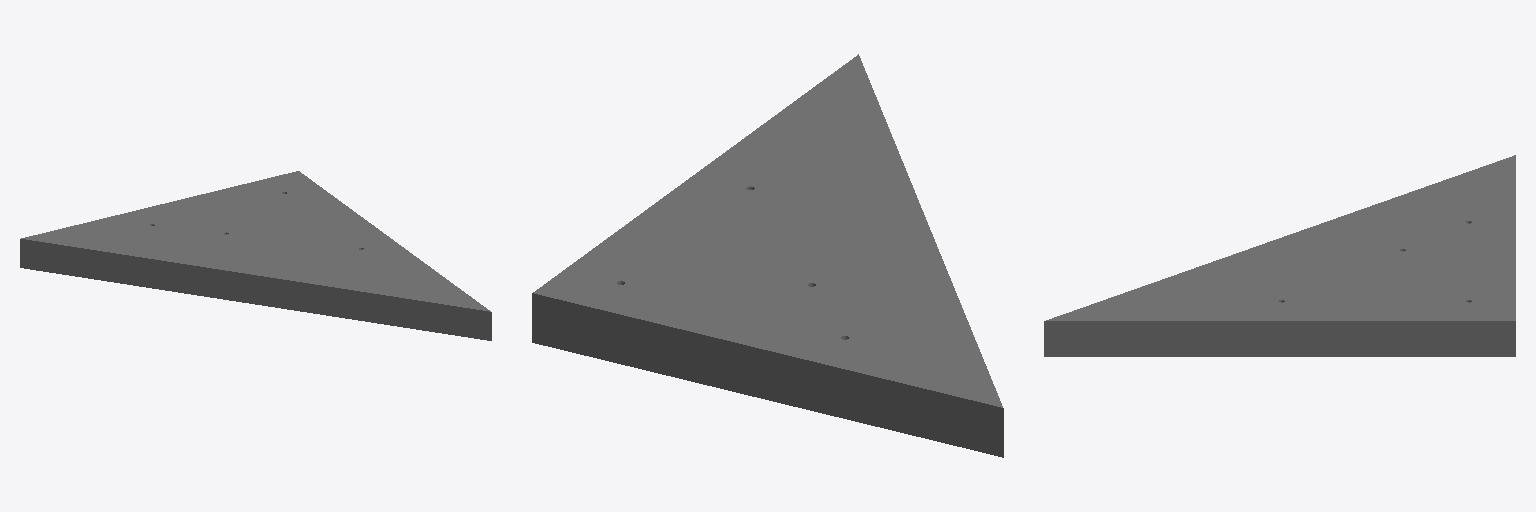
The robot description file, URDF, robot "push_object":
<?xml version="1.0" ?>
<robot name="push_object">
  <link name="link_x">
    <inertial>
      <mass value="0"/>
      <inertia ixx="1.0" ixy="0.0" ixz="0.0" iyy="1.0" iyz="0.0" izz="1.0"/>
    </inertial>
  </link>

  <link name="link_y">
    <inertial>
      <mass value="0"/>
      <inertia ixx="1.0" ixy="0.0" ixz="0.0" iyy="1.0" iyz="0.0" izz="1.0"/>
    </inertial>
  </link>
  
  <link name="link_z">
    <inertial>
      <mass value="0"/>
      <inertia ixx="1.0" ixy="0.0" ixz="0.0" iyy="1.0" iyz="0.0" izz="1.0"/>
    </inertial>
  </link>
  
  <link name="link_yaw">
    <inertial>
      <mass value="0"/>
      <inertia ixx="1.0" ixy="0.0" ixz="0.0" iyy="1.0" iyz="0.0" izz="1.0"/>
    </inertial>
  </link>

  <link name="link_object">
    <contact>
      <rolling_friction value="0.03"/>
      <spinning_friction value="0.03"/>
    </contact>

    <inertial>
      <origin rpy="0 0 0" xyz="0 0 0"/>
       <mass value="0.006350"/>
       <inertia ixx="1" ixy="0" ixz="0" iyy="1" iyz="0" izz="0.983000"/>
    </inertial>
    <visual>
      <origin rpy="0 0 0" xyz="0 0 0.002110"/>
      <geometry>
        <mesh filename="tri2.obj" scale="1.0 1.0 1.0"/>      
      </geometry>
      <material name="gray">
        <color rgba="0.5 0.5 0.5 1"/>
        <specular rgb="1 1 1"/>
      </material>
    </visual>
    
    <collision>
      <origin rpy="0 0 0" xyz="-0.0700 0.0400 -0.0063"/>
      <geometry>
        <sphere radius="0.0065"/>
      </geometry>
    </collision>
        
    <collision>
      <origin rpy="0 0 0" xyz="-0.0600 0.0200 -0.0063"/>
      <geometry>
        <sphere radius="0.0065"/>
      </geometry>
    </collision>
        
    <collision>
      <origin rpy="0 0 0" xyz="-0.0600 0.0300 -0.0063"/>
      <geometry>
        <sphere radius="0.0065"/>
      </geometry>
    </collision>
        
    <collision>
      <origin rpy="0 0 0" xyz="-0.0600 0.0400 -0.0063"/>
      <geometry>
        <sphere radius="0.0065"/>
      </geometry>
    </collision>
        
    <collision>
      <origin rpy="0 0 0" xyz="-0.0500 0.0100 -0.0063"/>
      <geometry>
        <sphere radius="0.0065"/>
      </geometry>
    </collision>
        
    <collision>
      <origin rpy="0 0 0" xyz="-0.0500 0.0200 -0.0063"/>
      <geometry>
        <sphere radius="0.0065"/>
      </geometry>
    </collision>
        
    <collision>
      <origin rpy="0 0 0" xyz="-0.0500 0.0300 -0.0063"/>
      <geometry>
        <sphere radius="0.0065"/>
      </geometry>
    </collision>
        
    <collision>
      <origin rpy="0 0 0" xyz="-0.0500 0.0400 -0.0063"/>
      <geometry>
        <sphere radius="0.0065"/>
      </geometry>
    </collision>
        
    <collision>
      <origin rpy="0 0 0" xyz="-0.0400 -0.0000 -0.0063"/>
      <geometry>
        <sphere radius="0.0065"/>
      </geometry>
    </collision>
        
    <collision>
      <origin rpy="0 0 0" xyz="-0.0400 0.0100 -0.0063"/>
      <geometry>
        <sphere radius="0.0065"/>
      </geometry>
    </collision>
        
    <collision>
      <origin rpy="0 0 0" xyz="-0.0400 0.0200 -0.0063"/>
      <geometry>
        <sphere radius="0.0065"/>
      </geometry>
    </collision>
        
    <collision>
      <origin rpy="0 0 0" xyz="-0.0400 0.0300 -0.0063"/>
      <geometry>
        <sphere radius="0.0065"/>
      </geometry>
    </collision>
        
    <collision>
      <origin rpy="0 0 0" xyz="-0.0400 0.0400 -0.0063"/>
      <geometry>
        <sphere radius="0.0065"/>
      </geometry>
    </collision>
        
    <collision>
      <origin rpy="0 0 0" xyz="-0.0300 -0.0100 -0.0063"/>
      <geometry>
        <sphere radius="0.0065"/>
      </geometry>
    </collision>
        
    <collision>
      <origin rpy="0 0 0" xyz="-0.0300 -0.0000 -0.0063"/>
      <geometry>
        <sphere radius="0.0065"/>
      </geometry>
    </collision>
        
    <collision>
      <origin rpy="0 0 0" xyz="-0.0300 0.0100 -0.0063"/>
      <geometry>
        <sphere radius="0.0065"/>
      </geometry>
    </collision>
        
    <collision>
      <origin rpy="0 0 0" xyz="-0.0300 0.0200 -0.0063"/>
      <geometry>
        <sphere radius="0.0065"/>
      </geometry>
    </collision>
        
    <collision>
      <origin rpy="0 0 0" xyz="-0.0300 0.0300 -0.0063"/>
      <geometry>
        <sphere radius="0.0065"/>
      </geometry>
    </collision>
        
    <collision>
      <origin rpy="0 0 0" xyz="-0.0300 0.0400 -0.0063"/>
      <geometry>
        <sphere radius="0.0065"/>
      </geometry>
    </collision>
        
    <collision>
      <origin rpy="0 0 0" xyz="-0.0200 -0.0200 -0.0063"/>
      <geometry>
        <sphere radius="0.0065"/>
      </geometry>
    </collision>
        
    <collision>
      <origin rpy="0 0 0" xyz="-0.0200 -0.0100 -0.0063"/>
      <geometry>
        <sphere radius="0.0065"/>
      </geometry>
    </collision>
        
    <collision>
      <origin rpy="0 0 0" xyz="-0.0200 -0.0000 -0.0063"/>
      <geometry>
        <sphere radius="0.0065"/>
      </geometry>
    </collision>
        
    <collision>
      <origin rpy="0 0 0" xyz="-0.0200 0.0100 -0.0063"/>
      <geometry>
        <sphere radius="0.0065"/>
      </geometry>
    </collision>
        
    <collision>
      <origin rpy="0 0 0" xyz="-0.0200 0.0200 -0.0063"/>
      <geometry>
        <sphere radius="0.0065"/>
      </geometry>
    </collision>
        
    <collision>
      <origin rpy="0 0 0" xyz="-0.0200 0.0300 -0.0063"/>
      <geometry>
        <sphere radius="0.0065"/>
      </geometry>
    </collision>
        
    <collision>
      <origin rpy="0 0 0" xyz="-0.0200 0.0400 -0.0063"/>
      <geometry>
        <sphere radius="0.0065"/>
      </geometry>
    </collision>
        
    <collision>
      <origin rpy="0 0 0" xyz="-0.0100 -0.0400 -0.0063"/>
      <geometry>
        <sphere radius="0.0065"/>
      </geometry>
    </collision>
        
    <collision>
      <origin rpy="0 0 0" xyz="-0.0100 -0.0300 -0.0063"/>
      <geometry>
        <sphere radius="0.0065"/>
      </geometry>
    </collision>
        
    <collision>
      <origin rpy="0 0 0" xyz="-0.0100 -0.0200 -0.0063"/>
      <geometry>
        <sphere radius="0.0065"/>
      </geometry>
    </collision>
        
    <collision>
      <origin rpy="0 0 0" xyz="-0.0100 -0.0100 -0.0063"/>
      <geometry>
        <sphere radius="0.0065"/>
      </geometry>
    </collision>
        
    <collision>
      <origin rpy="0 0 0" xyz="-0.0100 -0.0000 -0.0063"/>
      <geometry>
        <sphere radius="0.0065"/>
      </geometry>
    </collision>
        
    <collision>
      <origin rpy="0 0 0" xyz="-0.0100 0.0100 -0.0063"/>
      <geometry>
        <sphere radius="0.0065"/>
      </geometry>
    </collision>
        
    <collision>
      <origin rpy="0 0 0" xyz="-0.0100 0.0200 -0.0063"/>
      <geometry>
        <sphere radius="0.0065"/>
      </geometry>
    </collision>
        
    <collision>
      <origin rpy="0 0 0" xyz="-0.0100 0.0300 -0.0063"/>
      <geometry>
        <sphere radius="0.0065"/>
      </geometry>
    </collision>
        
    <collision>
      <origin rpy="0 0 0" xyz="-0.0100 0.0400 -0.0063"/>
      <geometry>
        <sphere radius="0.0065"/>
      </geometry>
    </collision>
        
    <collision>
      <origin rpy="0 0 0" xyz="-0.0000 -0.0500 -0.0063"/>
      <geometry>
        <sphere radius="0.0065"/>
      </geometry>
    </collision>
        
    <collision>
      <origin rpy="0 0 0" xyz="-0.0000 -0.0400 -0.0063"/>
      <geometry>
        <sphere radius="0.0065"/>
      </geometry>
    </collision>
        
    <collision>
      <origin rpy="0 0 0" xyz="-0.0000 -0.0300 -0.0063"/>
      <geometry>
        <sphere radius="0.0065"/>
      </geometry>
    </collision>
        
    <collision>
      <origin rpy="0 0 0" xyz="-0.0000 -0.0200 -0.0063"/>
      <geometry>
        <sphere radius="0.0065"/>
      </geometry>
    </collision>
        
    <collision>
      <origin rpy="0 0 0" xyz="-0.0000 -0.0100 -0.0063"/>
      <geometry>
        <sphere radius="0.0065"/>
      </geometry>
    </collision>
        
    <collision>
      <origin rpy="0 0 0" xyz="-0.0000 -0.0000 -0.0063"/>
      <geometry>
        <sphere radius="0.0065"/>
      </geometry>
    </collision>
        
    <collision>
      <origin rpy="0 0 0" xyz="-0.0000 0.0100 -0.0063"/>
      <geometry>
        <sphere radius="0.0065"/>
      </geometry>
    </collision>
        
    <collision>
      <origin rpy="0 0 0" xyz="-0.0000 0.0200 -0.0063"/>
      <geometry>
        <sphere radius="0.0065"/>
      </geometry>
    </collision>
        
    <collision>
      <origin rpy="0 0 0" xyz="-0.0000 0.0300 -0.0063"/>
      <geometry>
        <sphere radius="0.0065"/>
      </geometry>
    </collision>
        
    <collision>
      <origin rpy="0 0 0" xyz="-0.0000 0.0400 -0.0063"/>
      <geometry>
        <sphere radius="0.0065"/>
      </geometry>
    </collision>
        
    <collision>
      <origin rpy="0 0 0" xyz="0.0100 -0.0600 -0.0063"/>
      <geometry>
        <sphere radius="0.0065"/>
      </geometry>
    </collision>
        
    <collision>
      <origin rpy="0 0 0" xyz="0.0100 -0.0500 -0.0063"/>
      <geometry>
        <sphere radius="0.0065"/>
      </geometry>
    </collision>
        
    <collision>
      <origin rpy="0 0 0" xyz="0.0100 -0.0400 -0.0063"/>
      <geometry>
        <sphere radius="0.0065"/>
      </geometry>
    </collision>
        
    <collision>
      <origin rpy="0 0 0" xyz="0.0100 -0.0300 -0.0063"/>
      <geometry>
        <sphere radius="0.0065"/>
      </geometry>
    </collision>
        
    <collision>
      <origin rpy="0 0 0" xyz="0.0100 -0.0200 -0.0063"/>
      <geometry>
        <sphere radius="0.0065"/>
      </geometry>
    </collision>
        
    <collision>
      <origin rpy="0 0 0" xyz="0.0100 -0.0100 -0.0063"/>
      <geometry>
        <sphere radius="0.0065"/>
      </geometry>
    </collision>
        
    <collision>
      <origin rpy="0 0 0" xyz="0.0100 -0.0000 -0.0063"/>
      <geometry>
        <sphere radius="0.0065"/>
      </geometry>
    </collision>
        
    <collision>
      <origin rpy="0 0 0" xyz="0.0100 0.0100 -0.0063"/>
      <geometry>
        <sphere radius="0.0065"/>
      </geometry>
    </collision>
        
    <collision>
      <origin rpy="0 0 0" xyz="0.0100 0.0200 -0.0063"/>
      <geometry>
        <sphere radius="0.0065"/>
      </geometry>
    </collision>
        
    <collision>
      <origin rpy="0 0 0" xyz="0.0100 0.0300 -0.0063"/>
      <geometry>
        <sphere radius="0.0065"/>
      </geometry>
    </collision>
        
    <collision>
      <origin rpy="0 0 0" xyz="0.0100 0.0400 -0.0063"/>
      <geometry>
        <sphere radius="0.0065"/>
      </geometry>
    </collision>
        
    <collision>
      <origin rpy="0 0 0" xyz="0.0200 -0.0700 -0.0063"/>
      <geometry>
        <sphere radius="0.0065"/>
      </geometry>
    </collision>
        
    <collision>
      <origin rpy="0 0 0" xyz="0.0200 -0.0600 -0.0063"/>
      <geometry>
        <sphere radius="0.0065"/>
      </geometry>
    </collision>
        
    <collision>
      <origin rpy="0 0 0" xyz="0.0200 -0.0500 -0.0063"/>
      <geometry>
        <sphere radius="0.0065"/>
      </geometry>
    </collision>
        
    <collision>
      <origin rpy="0 0 0" xyz="0.0200 -0.0400 -0.0063"/>
      <geometry>
        <sphere radius="0.0065"/>
      </geometry>
    </collision>
        
    <collision>
      <origin rpy="0 0 0" xyz="0.0200 -0.0300 -0.0063"/>
      <geometry>
        <sphere radius="0.0065"/>
      </geometry>
    </collision>
        
    <collision>
      <origin rpy="0 0 0" xyz="0.0200 -0.0200 -0.0063"/>
      <geometry>
        <sphere radius="0.0065"/>
      </geometry>
    </collision>
        
    <collision>
      <origin rpy="0 0 0" xyz="0.0200 -0.0100 -0.0063"/>
      <geometry>
        <sphere radius="0.0065"/>
      </geometry>
    </collision>
        
    <collision>
      <origin rpy="0 0 0" xyz="0.0200 -0.0000 -0.0063"/>
      <geometry>
        <sphere radius="0.0065"/>
      </geometry>
    </collision>
        
    <collision>
      <origin rpy="0 0 0" xyz="0.0200 0.0100 -0.0063"/>
      <geometry>
        <sphere radius="0.0065"/>
      </geometry>
    </collision>
        
    <collision>
      <origin rpy="0 0 0" xyz="0.0200 0.0200 -0.0063"/>
      <geometry>
        <sphere radius="0.0065"/>
      </geometry>
    </collision>
        
    <collision>
      <origin rpy="0 0 0" xyz="0.0200 0.0300 -0.0063"/>
      <geometry>
        <sphere radius="0.0065"/>
      </geometry>
    </collision>
        
    <collision>
      <origin rpy="0 0 0" xyz="0.0200 0.0400 -0.0063"/>
      <geometry>
        <sphere radius="0.0065"/>
      </geometry>
    </collision>
        
    <collision>
      <origin rpy="0 0 0" xyz="0.0300 -0.0800 -0.0063"/>
      <geometry>
        <sphere radius="0.0065"/>
      </geometry>
    </collision>
        
    <collision>
      <origin rpy="0 0 0" xyz="0.0300 -0.0700 -0.0063"/>
      <geometry>
        <sphere radius="0.0065"/>
      </geometry>
    </collision>
        
    <collision>
      <origin rpy="0 0 0" xyz="0.0300 -0.0600 -0.0063"/>
      <geometry>
        <sphere radius="0.0065"/>
      </geometry>
    </collision>
        
    <collision>
      <origin rpy="0 0 0" xyz="0.0300 -0.0500 -0.0063"/>
      <geometry>
        <sphere radius="0.0065"/>
      </geometry>
    </collision>
        
    <collision>
      <origin rpy="0 0 0" xyz="0.0300 -0.0400 -0.0063"/>
      <geometry>
        <sphere radius="0.0065"/>
      </geometry>
    </collision>
        
    <collision>
      <origin rpy="0 0 0" xyz="0.0300 -0.0300 -0.0063"/>
      <geometry>
        <sphere radius="0.0065"/>
      </geometry>
    </collision>
        
    <collision>
      <origin rpy="0 0 0" xyz="0.0300 -0.0200 -0.0063"/>
      <geometry>
        <sphere radius="0.0065"/>
      </geometry>
    </collision>
        
    <collision>
      <origin rpy="0 0 0" xyz="0.0300 -0.0100 -0.0063"/>
      <geometry>
        <sphere radius="0.0065"/>
      </geometry>
    </collision>
        
    <collision>
      <origin rpy="0 0 0" xyz="0.0300 -0.0000 -0.0063"/>
      <geometry>
        <sphere radius="0.0065"/>
      </geometry>
    </collision>
        
    <collision>
      <origin rpy="0 0 0" xyz="0.0300 0.0100 -0.0063"/>
      <geometry>
        <sphere radius="0.0065"/>
      </geometry>
    </collision>
        
    <collision>
      <origin rpy="0 0 0" xyz="0.0300 0.0200 -0.0063"/>
      <geometry>
        <sphere radius="0.0065"/>
      </geometry>
    </collision>
        
    <collision>
      <origin rpy="0 0 0" xyz="0.0300 0.0300 -0.0063"/>
      <geometry>
        <sphere radius="0.0065"/>
      </geometry>
    </collision>
        
    <collision>
      <origin rpy="0 0 0" xyz="0.0300 0.0400 -0.0063"/>
      <geometry>
        <sphere radius="0.0065"/>
      </geometry>
    </collision>
        
    <collision>
      <origin rpy="0 0 0" xyz="0.0400 -0.1000 -0.0063"/>
      <geometry>
        <sphere radius="0.0065"/>
      </geometry>
    </collision>
        
    <collision>
      <origin rpy="0 0 0" xyz="0.0400 -0.0900 -0.0063"/>
      <geometry>
        <sphere radius="0.0065"/>
      </geometry>
    </collision>
        
    <collision>
      <origin rpy="0 0 0" xyz="0.0400 -0.0800 -0.0063"/>
      <geometry>
        <sphere radius="0.0065"/>
      </geometry>
    </collision>
        
    <collision>
      <origin rpy="0 0 0" xyz="0.0400 -0.0700 -0.0063"/>
      <geometry>
        <sphere radius="0.0065"/>
      </geometry>
    </collision>
        
    <collision>
      <origin rpy="0 0 0" xyz="0.0400 -0.0600 -0.0063"/>
      <geometry>
        <sphere radius="0.0065"/>
      </geometry>
    </collision>
        
    <collision>
      <origin rpy="0 0 0" xyz="0.0400 -0.0500 -0.0063"/>
      <geometry>
        <sphere radius="0.0065"/>
      </geometry>
    </collision>
        
    <collision>
      <origin rpy="0 0 0" xyz="0.0400 -0.0400 -0.0063"/>
      <geometry>
        <sphere radius="0.0065"/>
      </geometry>
    </collision>
        
    <collision>
      <origin rpy="0 0 0" xyz="0.0400 -0.0300 -0.0063"/>
      <geometry>
        <sphere radius="0.0065"/>
      </geometry>
    </collision>
        
    <collision>
      <origin rpy="0 0 0" xyz="0.0400 -0.0200 -0.0063"/>
      <geometry>
        <sphere radius="0.0065"/>
      </geometry>
    </collision>
        
    <collision>
      <origin rpy="0 0 0" xyz="0.0400 -0.0100 -0.0063"/>
      <geometry>
        <sphere radius="0.0065"/>
      </geometry>
    </collision>
        
    <collision>
      <origin rpy="0 0 0" xyz="0.0400 -0.0000 -0.0063"/>
      <geometry>
        <sphere radius="0.0065"/>
      </geometry>
    </collision>
        
    <collision>
      <origin rpy="0 0 0" xyz="0.0400 0.0100 -0.0063"/>
      <geometry>
        <sphere radius="0.0065"/>
      </geometry>
    </collision>
        
    <collision>
      <origin rpy="0 0 0" xyz="0.0400 0.0200 -0.0063"/>
      <geometry>
        <sphere radius="0.0065"/>
      </geometry>
    </collision>
        
    <collision>
      <origin rpy="0 0 0" xyz="0.0400 0.0300 -0.0063"/>
      <geometry>
        <sphere radius="0.0065"/>
      </geometry>
    </collision>
        
    <collision>
      <origin rpy="0 0 0" xyz="0.0400 0.0400 -0.0063"/>
      <geometry>
        <sphere radius="0.0065"/>
      </geometry>
    </collision>
        
  </link>
  
  <joint name="joint_x" type="prismatic">
    <axis xyz="1 0 0"/>
    <origin xyz="0.0 0.0 0"/>
    <parent link="link_x"/>
    <child link="link_y"/>
    <limit effort="1000.0" lower="-15" upper="15" velocity="5"/>
  </joint>

  <joint name="joint_y" type="prismatic">
    <axis xyz="0 1 0"/>
    <origin xyz="0.0 0.0 0"/>
    <parent link="link_y"/>
    <child link="link_z"/>
    <limit effort="1000.0" lower="-15" upper="15" velocity="5"/>
  </joint>

  <joint name="joint_z" type="prismatic">
    <axis xyz="0 0 1"/>
    <origin xyz="0.0 0.0 0"/>
    <parent link="link_z"/>
    <child link="link_yaw"/>
    <limit effort="1000.0" lower="-15" upper="15" velocity="5"/>
  </joint>

  <joint name="joint_yaw" type="continuous">
    <axis xyz="0 0 1"/>
    <origin xyz="0.0 0.0 0"/>
    <parent link="link_yaw"/>
    <child link="link_object"/>
  </joint>
</robot>

--- What the picture shows (computed from the rendered views, not written in the file) ---
3 views of the same robot in one strip: view 1: azimuth 30°, elevation 25°; view 2: azimuth 150°, elevation 25°; view 3: azimuth 270°, elevation 25° (orthographic).
Robot: push_object — 5 links, 4 joints (1 continuous, 3 prismatic); root link link_x; default pose: every joint at zero.
Links seen in each view (by area): view 1: link_object; view 2: link_object; view 3: link_object.
Link boxes in pixels (bbox=[...]): link_object: bbox=[20, 171, 491, 340]; link_object: bbox=[532, 54, 1003, 457]; link_object: bbox=[1044, 155, 1515, 356].
Size in the robot's own frame: 0.126 by 0.1512 by 0.0127 metres.
Meshes: 1 distinct files referenced, 1 mesh visuals loaded (1 OBJ).